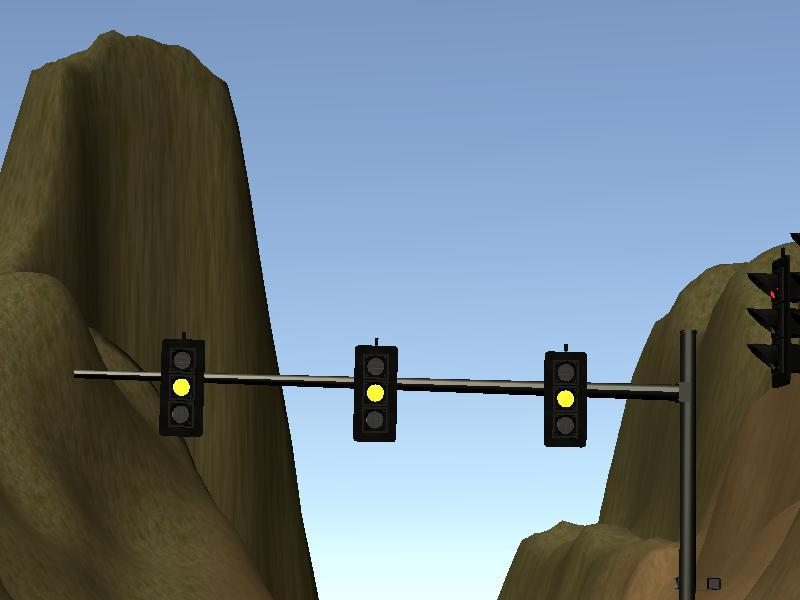Yellow: (159, 340, 204, 435), (353, 347, 396, 441), (543, 352, 586, 446)
